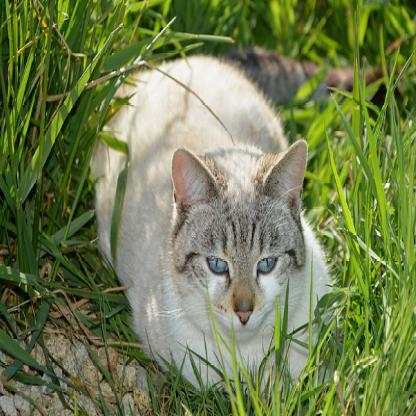cat: (90, 59, 333, 392)
